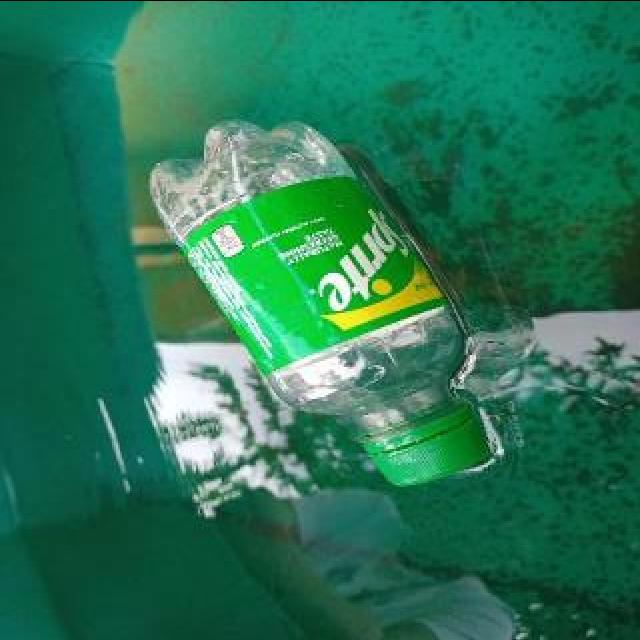Bottle: (140, 107, 502, 494)
